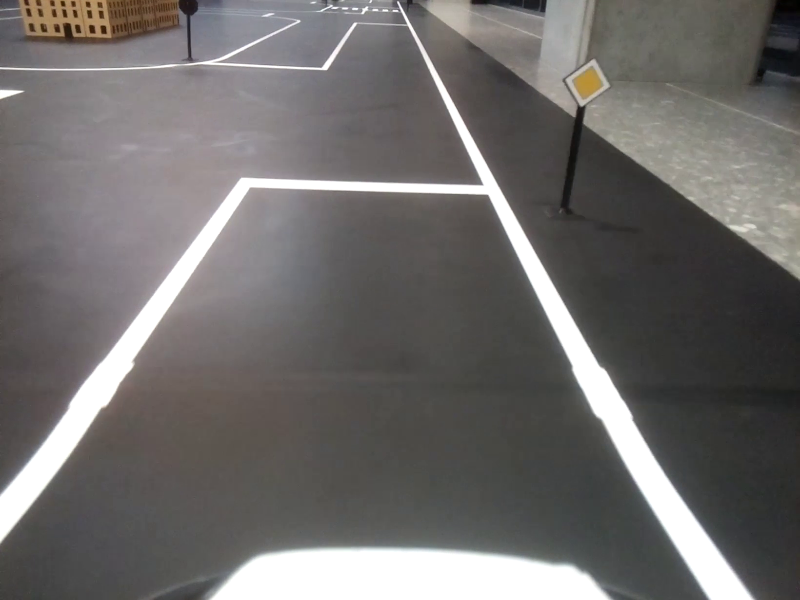priority: (559, 57, 614, 110)
